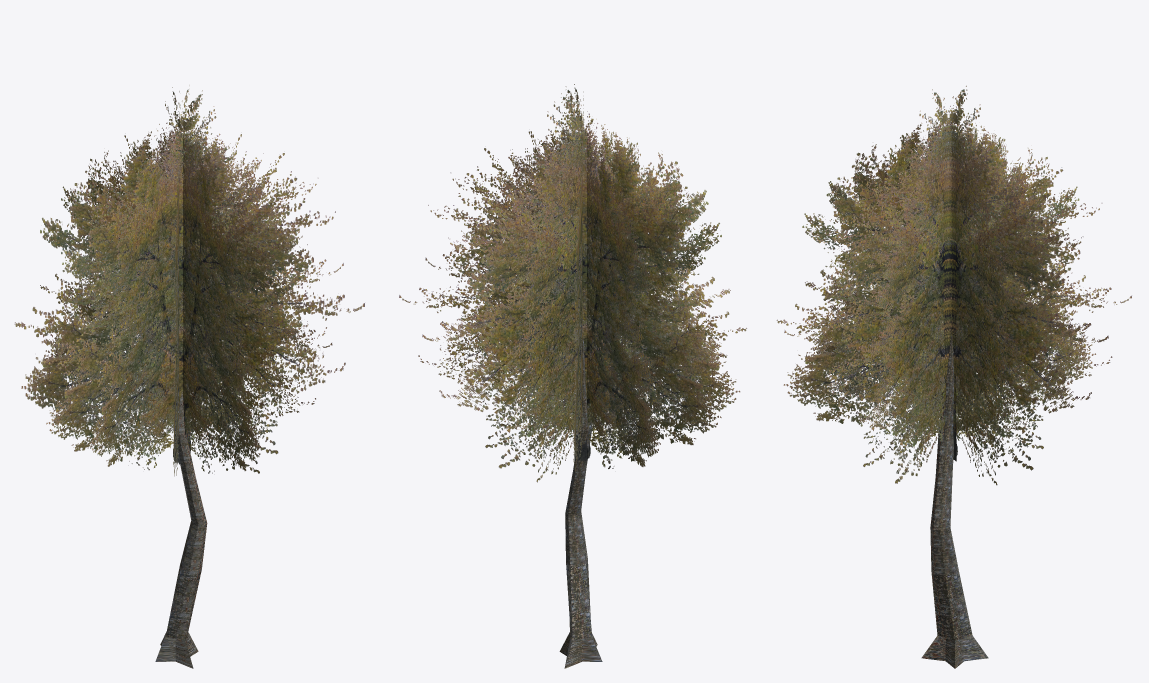
The model's file is tree3.fbx.
3 renders of one model, left to right at view 1: azimuth 30°, elevation 25°; view 2: azimuth 150°, elevation 25°; view 3: azimuth 270°, elevation 25°, orthographic.
Parts seen in each view (by area): view 1: tree3; view 2: tree3; view 3: tree3.
Part boxes in pixels (x1,y1,x2,y2): tree3: [14, 85, 364, 668]; tree3: [399, 84, 746, 668]; tree3: [776, 85, 1131, 668].
Size of the model in its own units: 112 by 198 by 112.
2 materials, 2 textured.
